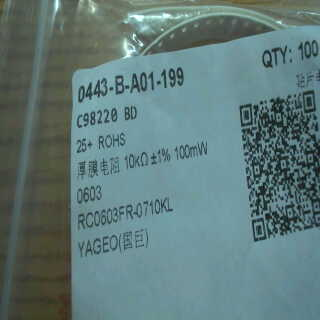10kR: (119, 149, 158, 178)
